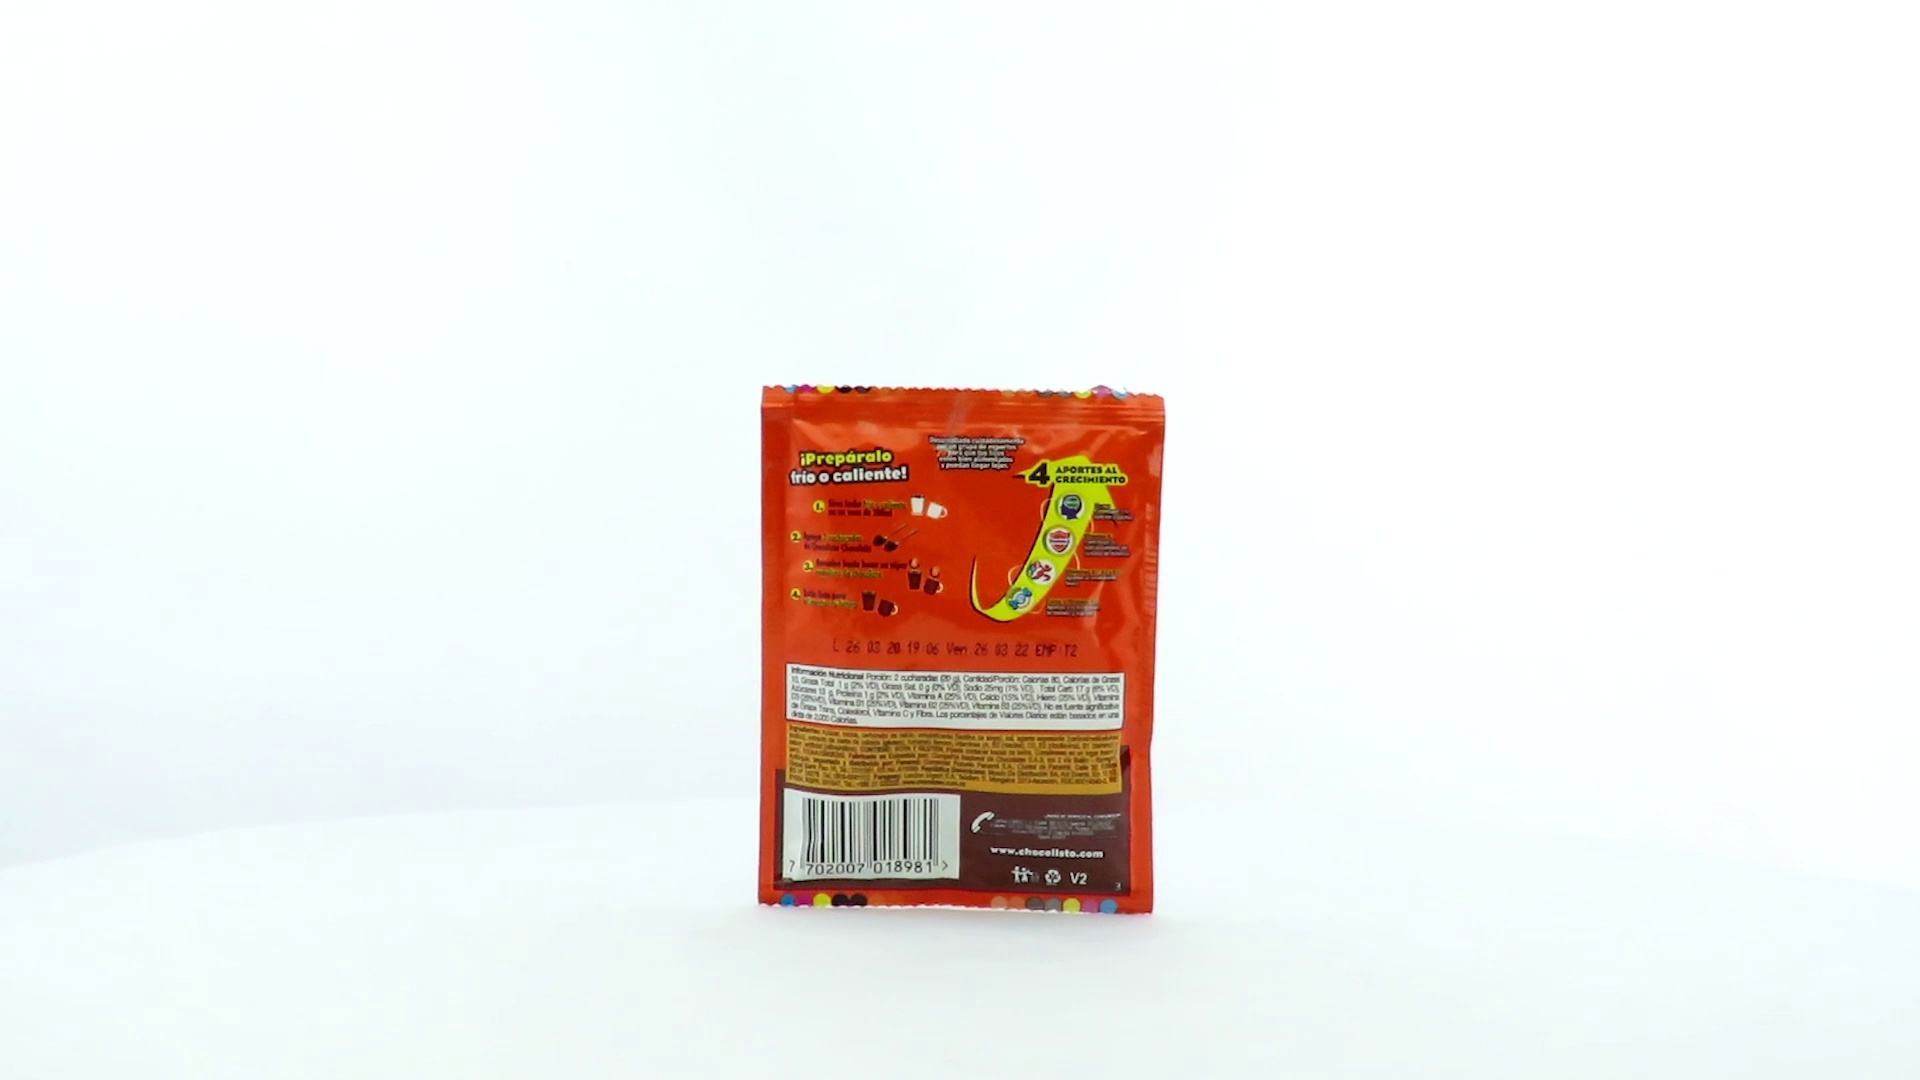COL0170103SOB02000: (752, 378, 1172, 920)
